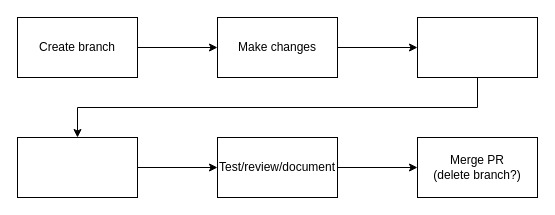
Image size: 555x215. Some labels were removed from this diagram. Here are the shapes that lost their labels. From the top down, the centre of each, then its label:
the point at 477,47: Commit Changes
the point at 77,167: Make pull request
